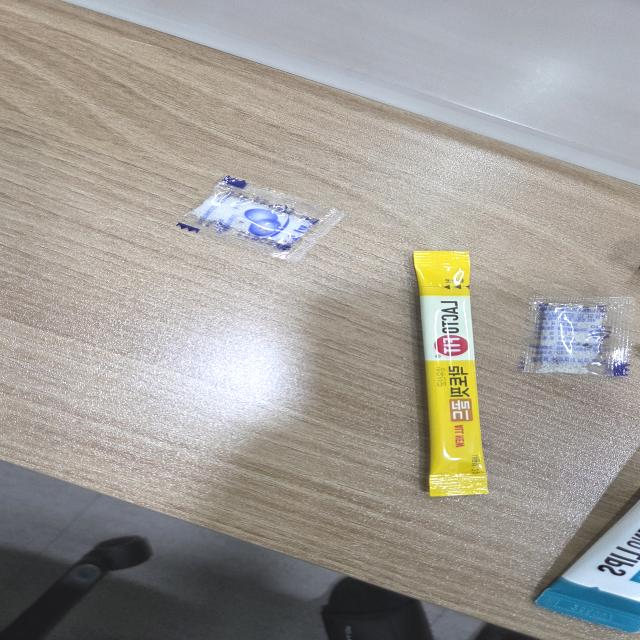lacto: (411, 248, 493, 501)
lib: (531, 493, 640, 633)
salt: (172, 175, 350, 265), (507, 294, 635, 378)
